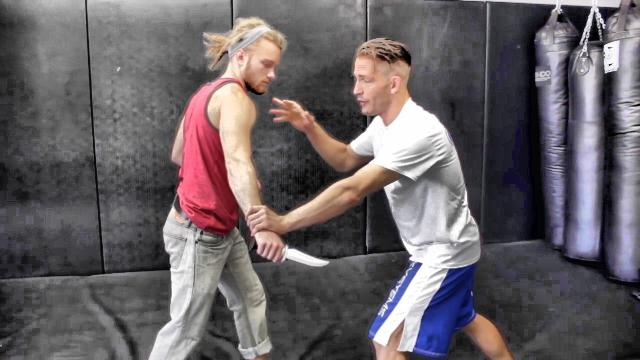knife: (248, 234, 336, 272)
